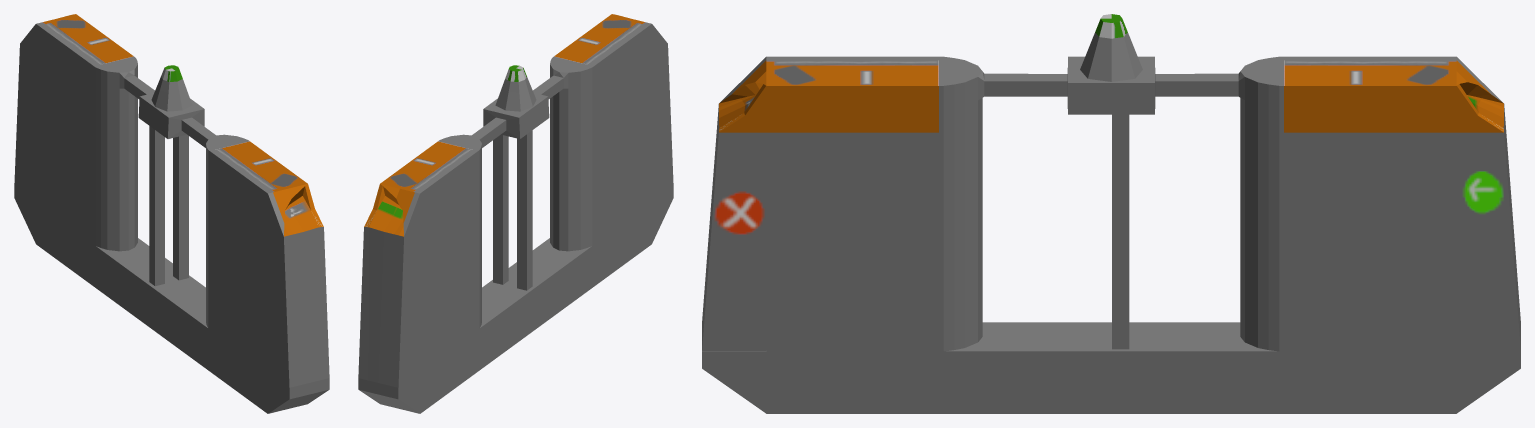
File: gate_block_left.obj
The picture shows the model from 3 angles, left to right: view 1: azimuth 30°, elevation 25°; view 2: azimuth 150°, elevation 25°; view 3: azimuth 270°, elevation 25°; orthographic projection. The views are drawn at different scales.
Visible parts, largest first — view 1: cube; view 2: cube; view 3: cube.
Boxes of the visible parts, x1=… form: cube: x1=14, y1=14, x2=329, y2=413; cube: x1=358, y1=14, x2=673, y2=413; cube: x1=702, y1=14, x2=1520, y2=413.
Bounding box in the file's own units: 0.25 × 1.52 × 2.97.
